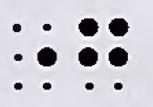dot_5: (12, 23, 57, 91)
two_cell_alphabet_gunita: (78, 18, 129, 91)
